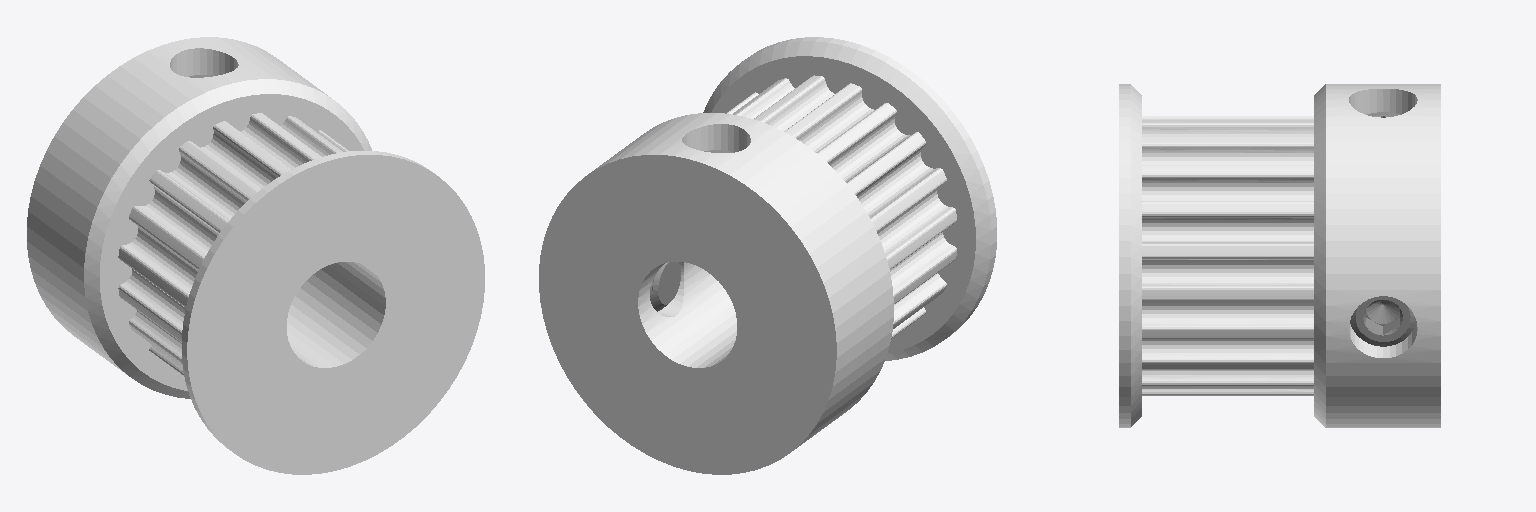
The model's file is pulley.obj.
3 views of the same model, side by side, from view 1: azimuth 30°, elevation 25°; view 2: azimuth 150°, elevation 25°; view 3: azimuth 270°, elevation 25° (orthographic).
Visible parts, largest first — view 1: Body1:2; view 2: Body1:2, Body1; view 3: Body1:2, Body1.
Boxes of the visible parts, x1,y1,x2,y2 form: Body1:2: [27, 37, 484, 474]; Body1:2: [539, 37, 996, 474]; Body1: [650, 262, 680, 311]; Body1:2: [1119, 84, 1440, 427]; Body1: [1350, 296, 1415, 346].
Bounding box in the file's own units: 1.5 × 1.5 × 1.4.